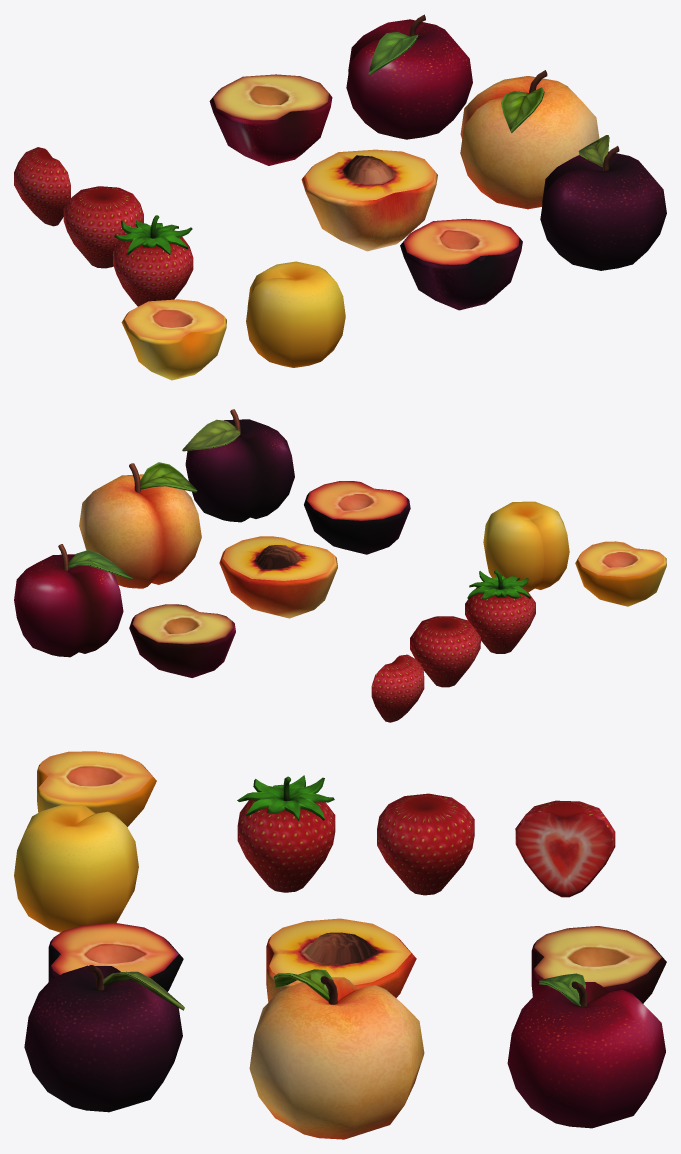
File: Plums and peaches and strawberries.fbx
The picture shows the model from 3 angles, top to bottom: view 1: azimuth 30°, elevation 25°; view 2: azimuth 150°, elevation 25°; view 3: azimuth 270°, elevation 25°; orthographic projection. The views are drawn at different scales.
Parts seen in each view (by area): view 1: Peach, Plum, Plum_Red, Peach_Half, Apricot, Plum_Red_Half, Plum_Half, Apricot_Half, Strawberry_Top, Strawberry, Strawberry_Half; view 2: Peach, Plum_Red, Plum, Peach_Half, Apricot, Plum_Red_Half, Plum_Half, Apricot_Half, Strawberry_Top, Strawberry, Strawberry_Half; view 3: Peach, Plum_Red, Plum, Apricot, Strawberry_Top, Peach_Half, Strawberry, Strawberry_Half, Plum_Red_Half, Apricot_Half, Plum_Half.
Boxes of the visible parts, <box> form: Peach: <box>460,70,599,209</box>; Plum: <box>540,135,666,270</box>; Plum_Red: <box>346,14,472,139</box>; Peach_Half: <box>301,149,437,251</box>; Apricot: <box>246,261,345,367</box>; Plum_Red_Half: <box>209,74,332,165</box>; Plum_Half: <box>400,218,522,310</box>; Apricot_Half: <box>121,299,226,380</box>; Strawberry_Top: <box>113,215,193,306</box>; Strawberry: <box>63,186,143,268</box>; Strawberry_Half: <box>14,147,70,226</box>; Peach: <box>79,462,201,588</box>; Plum_Red: <box>14,544,132,657</box>; Plum: <box>182,409,294,522</box>; Peach_Half: <box>219,536,337,618</box>; Apricot: <box>483,501,569,592</box>; Plum_Red_Half: <box>129,604,235,677</box>; Plum_Half: <box>304,481,410,554</box>; Apricot_Half: <box>575,541,666,606</box>; Strawberry_Top: <box>465,570,535,653</box>; Strawberry: <box>410,616,480,687</box>; Strawberry_Half: <box>371,654,424,722</box>; Peach: <box>249,969,424,1139</box>; Plum_Red: <box>507,973,665,1128</box>; Plum: <box>24,965,184,1112</box>; Apricot: <box>14,804,138,932</box>; Strawberry_Top: <box>237,775,335,892</box>; Peach_Half: <box>266,918,416,1001</box>; Strawberry: <box>377,793,474,895</box>; Strawberry_Half: <box>515,800,615,897</box>; Plum_Red_Half: <box>531,926,666,1003</box>; Apricot_Half: <box>37,751,156,827</box>; Plum_Half: <box>48,923,183,991</box>.
Bounding box in the file's own units: 143 × 32.05 × 117.
3 materials, 3 textured.
